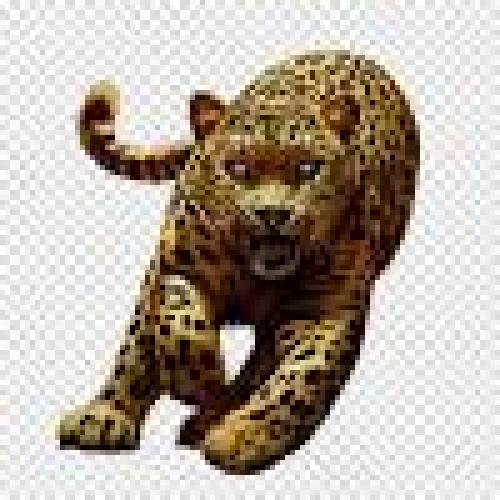jaguar_not-endangered: (54, 52, 422, 466)
